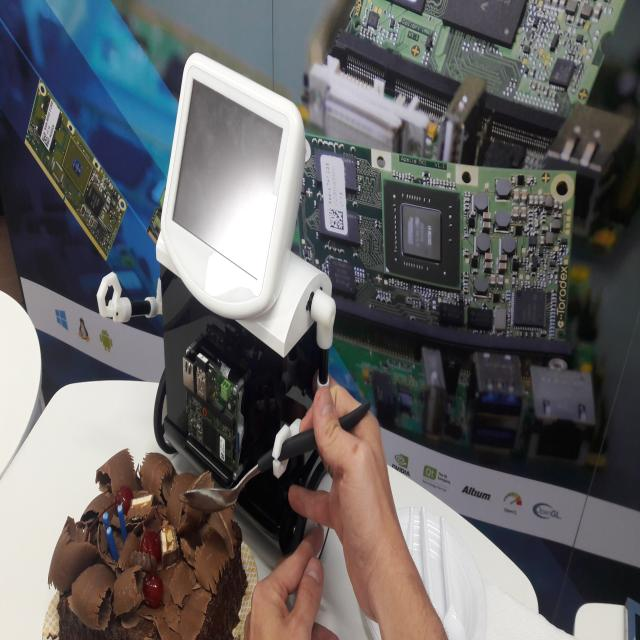som: (296, 134, 574, 358), (343, 1, 625, 120), (18, 70, 130, 264), (188, 398, 237, 476)
